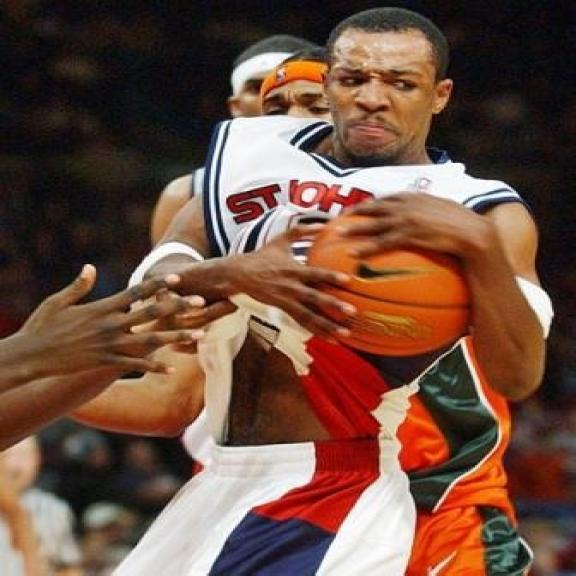face: (331, 28, 451, 168)
